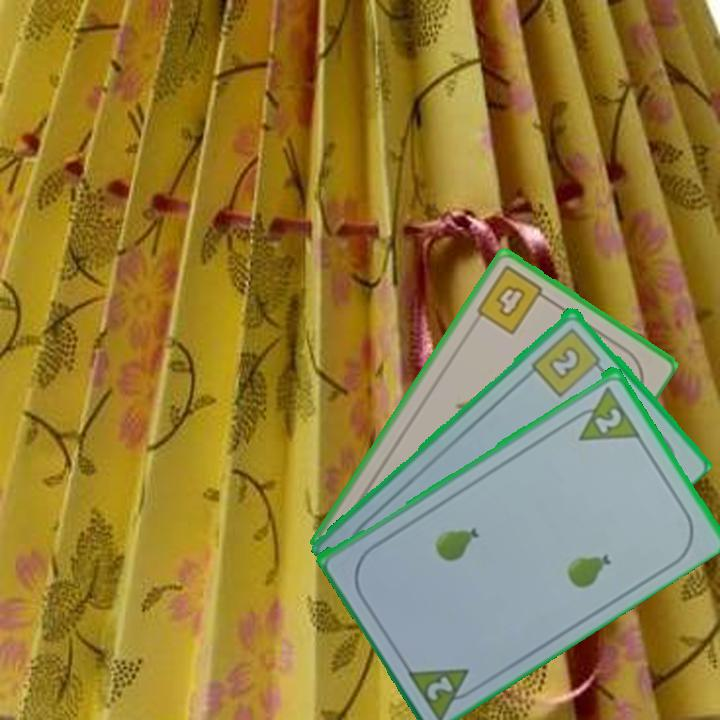2b: (528, 324, 608, 399)
2p: (591, 403, 625, 436), (423, 671, 457, 703)
4b: (472, 261, 554, 337)
